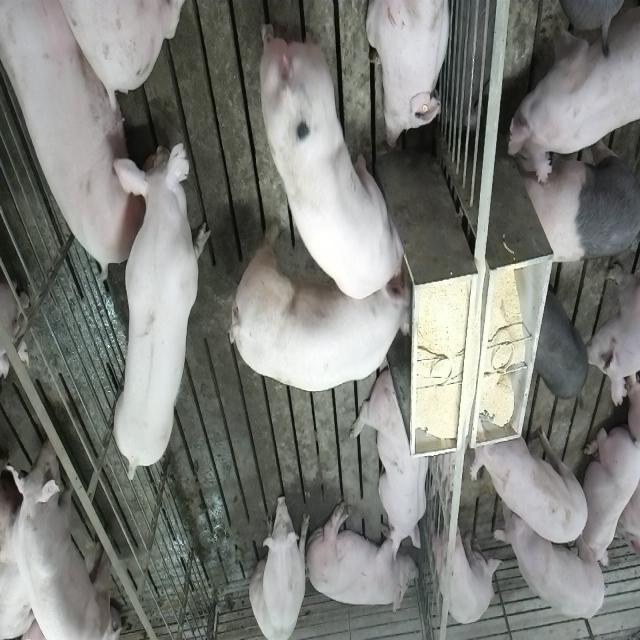Feeding: (258, 21, 411, 304), (237, 231, 420, 393)
Lateral_lying: (305, 499, 417, 617)
Sitting: (250, 492, 309, 640)
Standing: (111, 127, 211, 486), (0, 422, 115, 640), (504, 1, 638, 187), (516, 114, 638, 264), (470, 419, 590, 547), (496, 492, 608, 618), (436, 512, 504, 626), (532, 290, 590, 400)
Sternal_lying: (352, 366, 432, 560), (368, 0, 454, 148), (580, 424, 637, 570)
